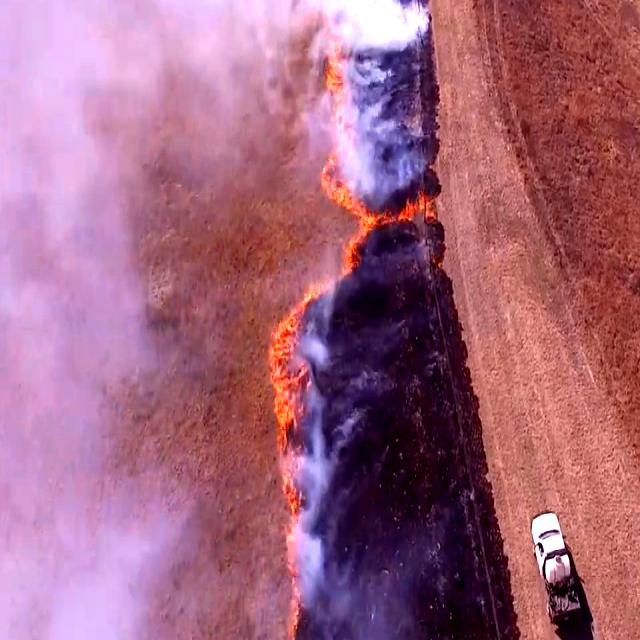fire: (316, 167, 384, 278)
smoke: (0, 0, 247, 640), (337, 0, 433, 237)
